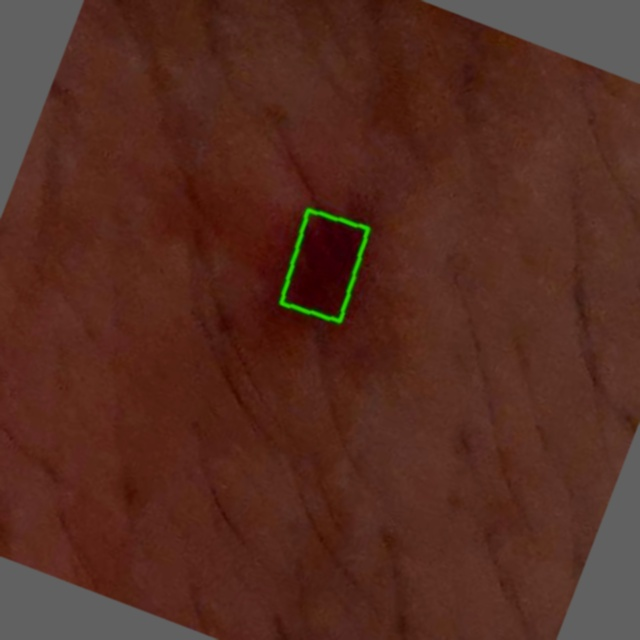Contact Dermatitis: (279, 210, 367, 321)
